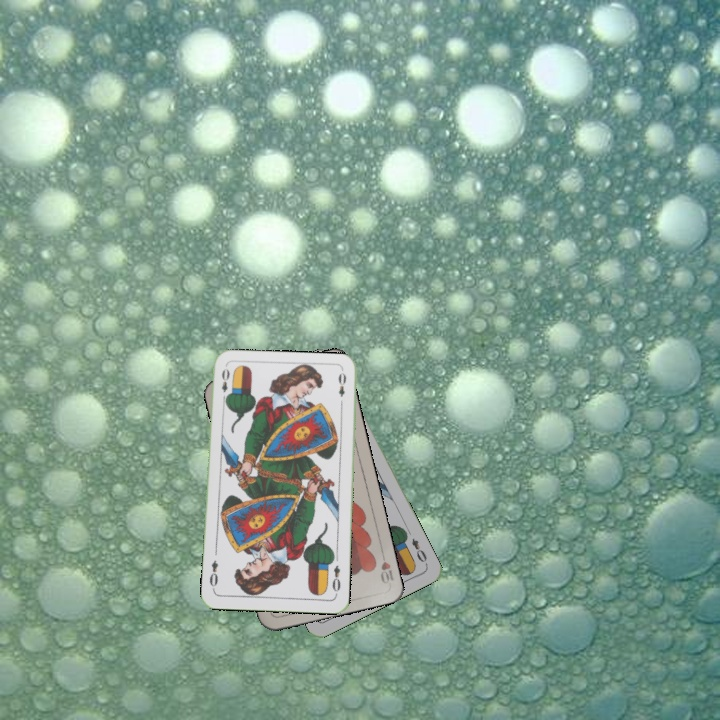EO: (407, 534, 430, 568), (217, 364, 232, 404), (328, 561, 343, 597)
H10: (376, 547, 397, 586)
